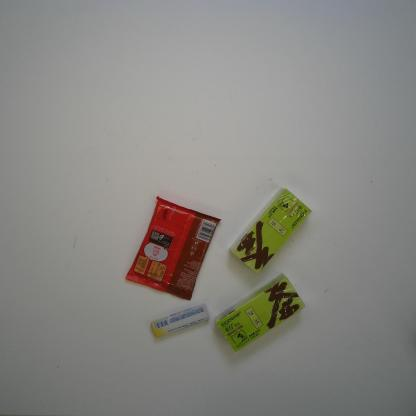Candy: (151, 303, 211, 339)
Dessert: (124, 195, 222, 301)
Instant Drink: (229, 187, 312, 275), (215, 274, 306, 352)
